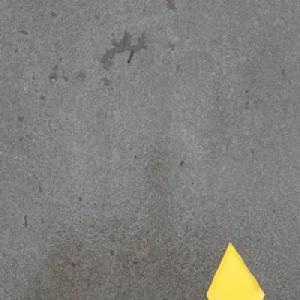PlasticPart: (205, 238, 265, 300)
